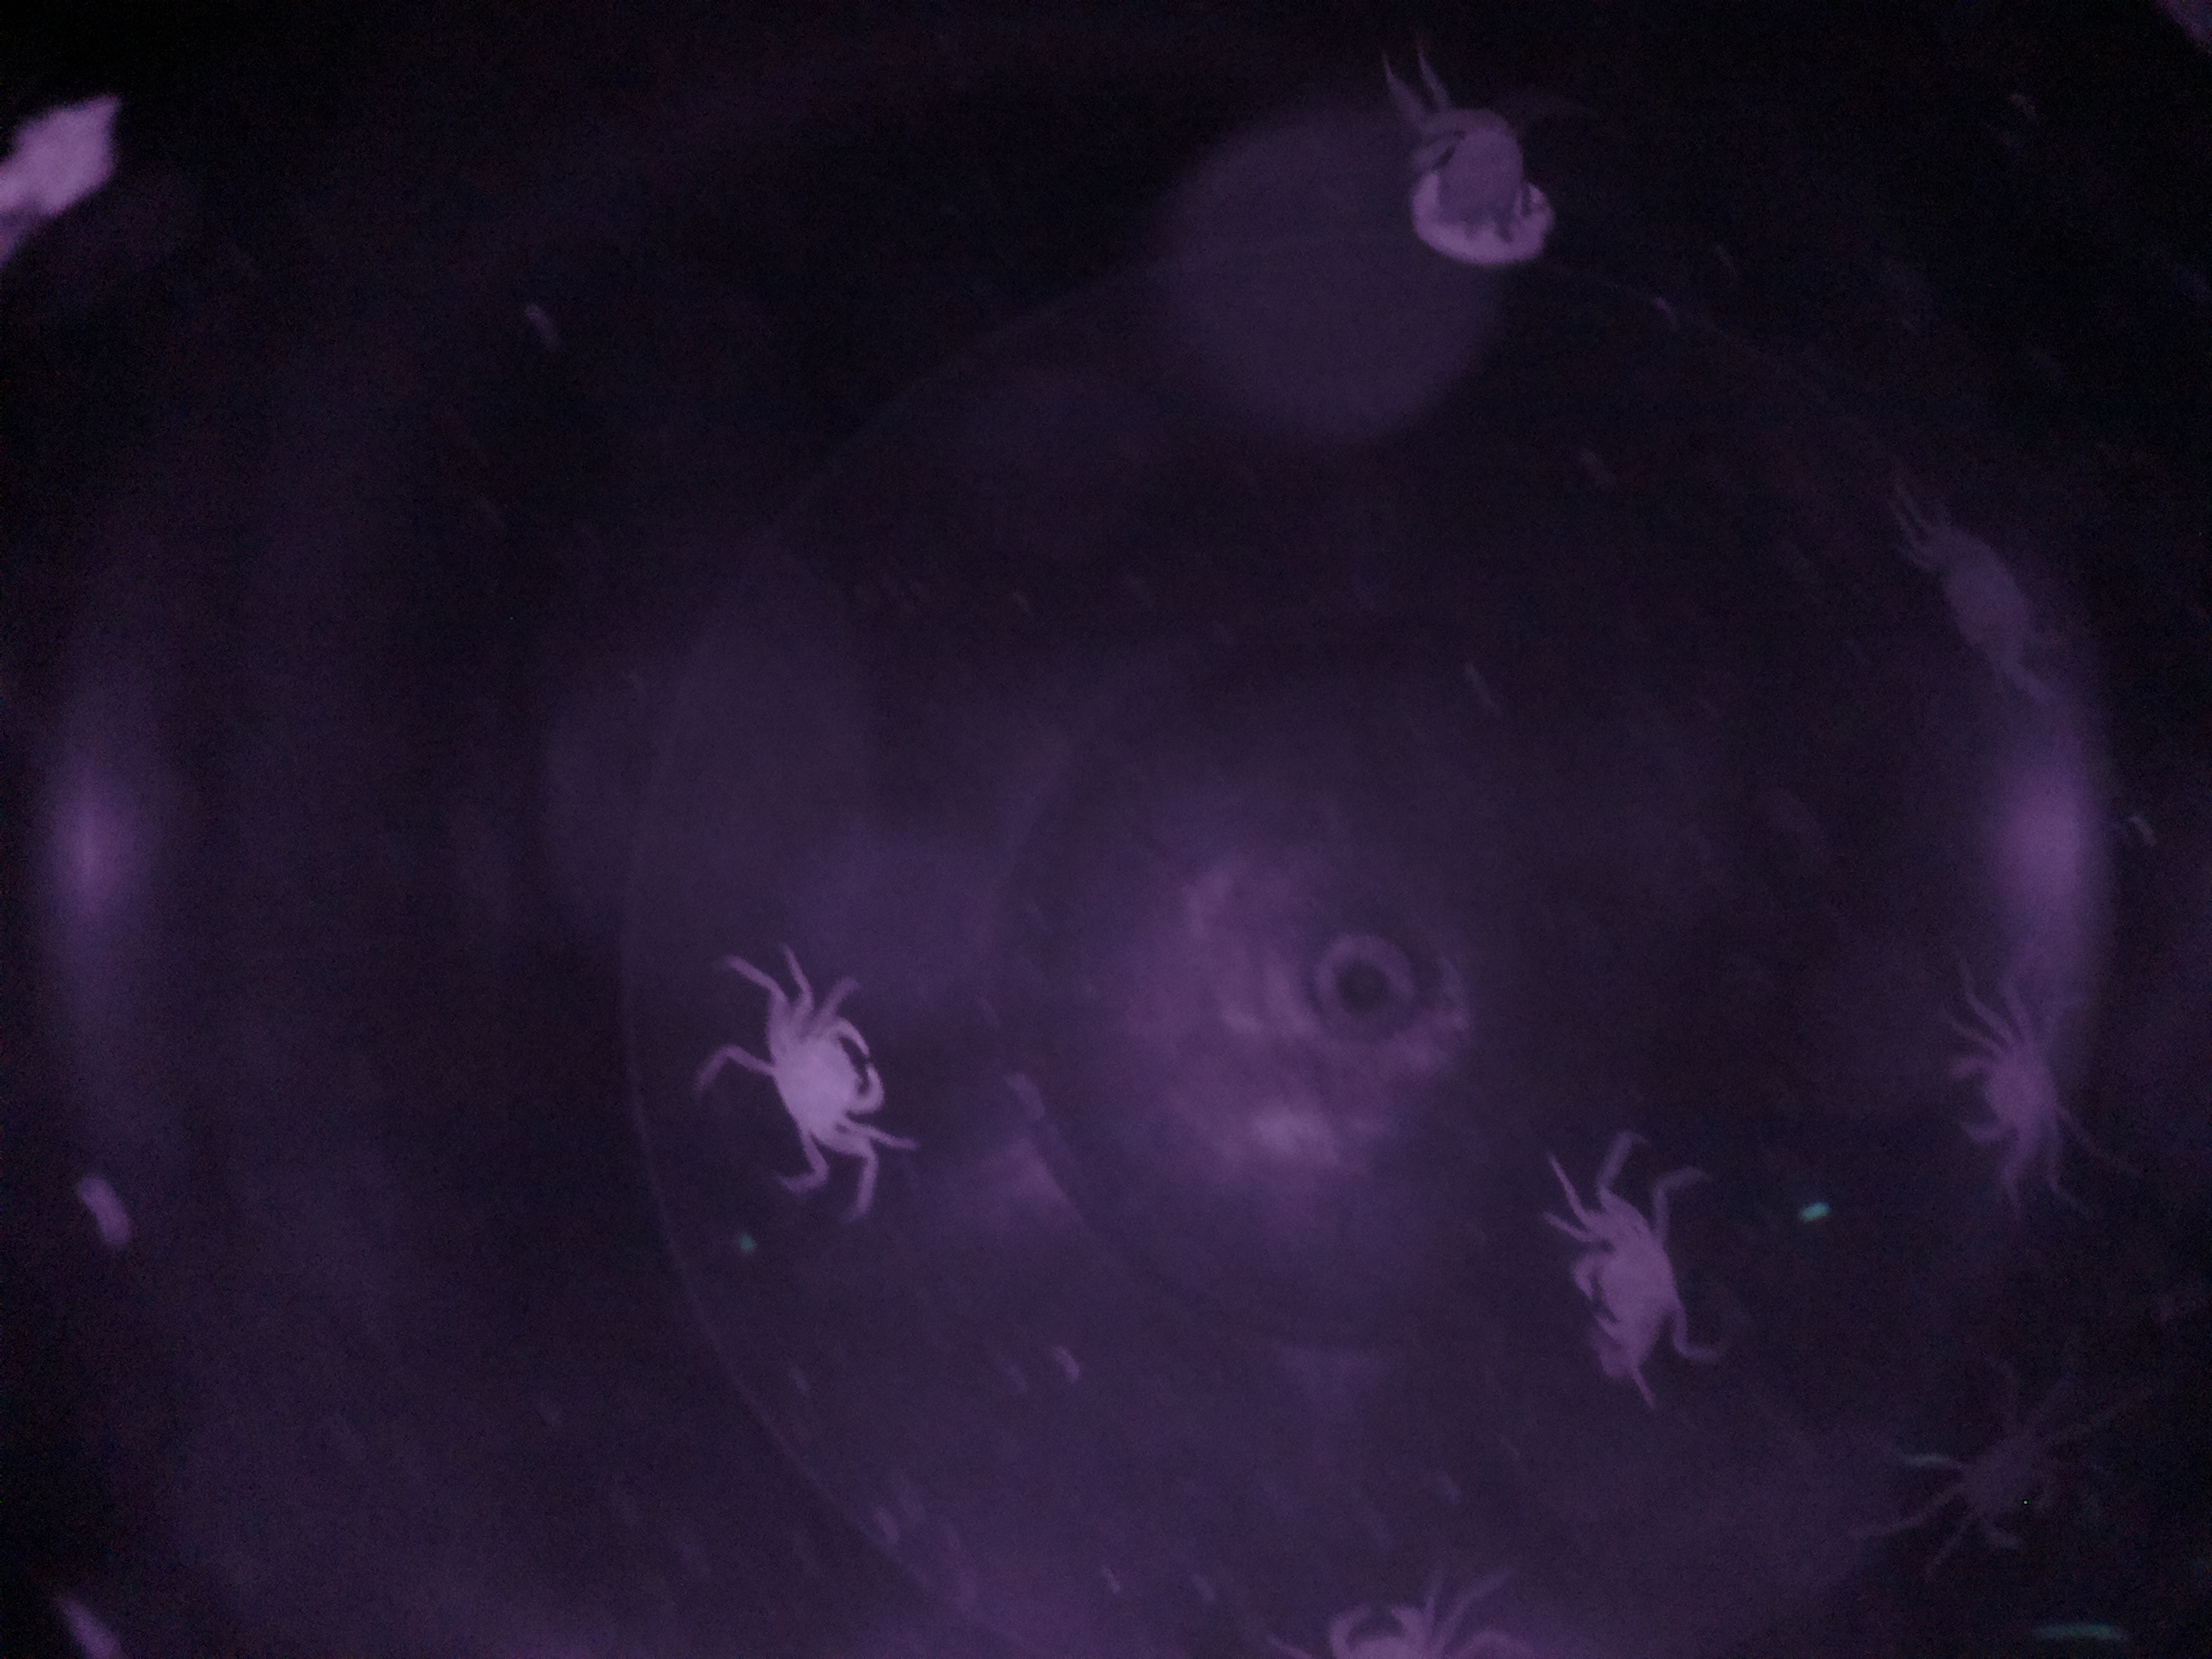Crab: (719, 983, 911, 1183), (1554, 1192, 1698, 1385), (1940, 1009, 2073, 1171)
